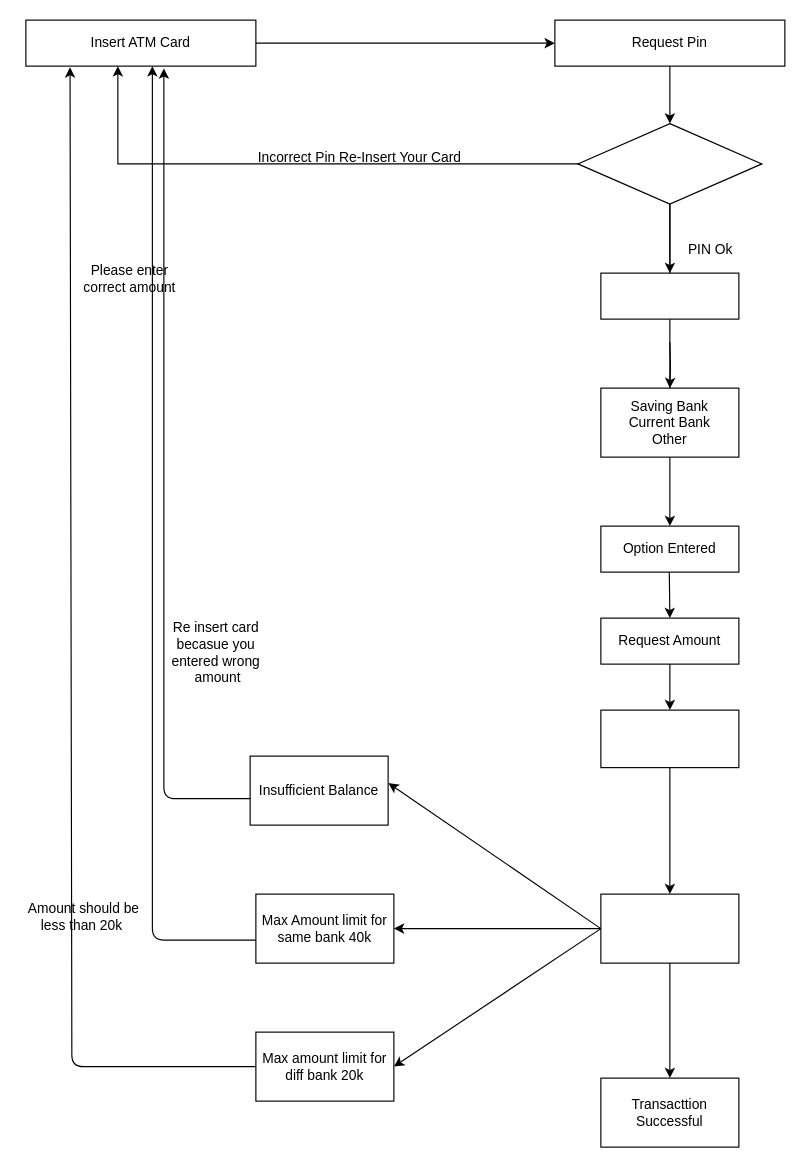
Image size: 805x1167. Some labels were removed from this diagram. Each missing label, with the centre of its shape:
Account Option: the point at 669,295
Amount Entered: the point at 669,738
Pin Entered: the point at 669,163
Process Transaction(): the point at 669,928
